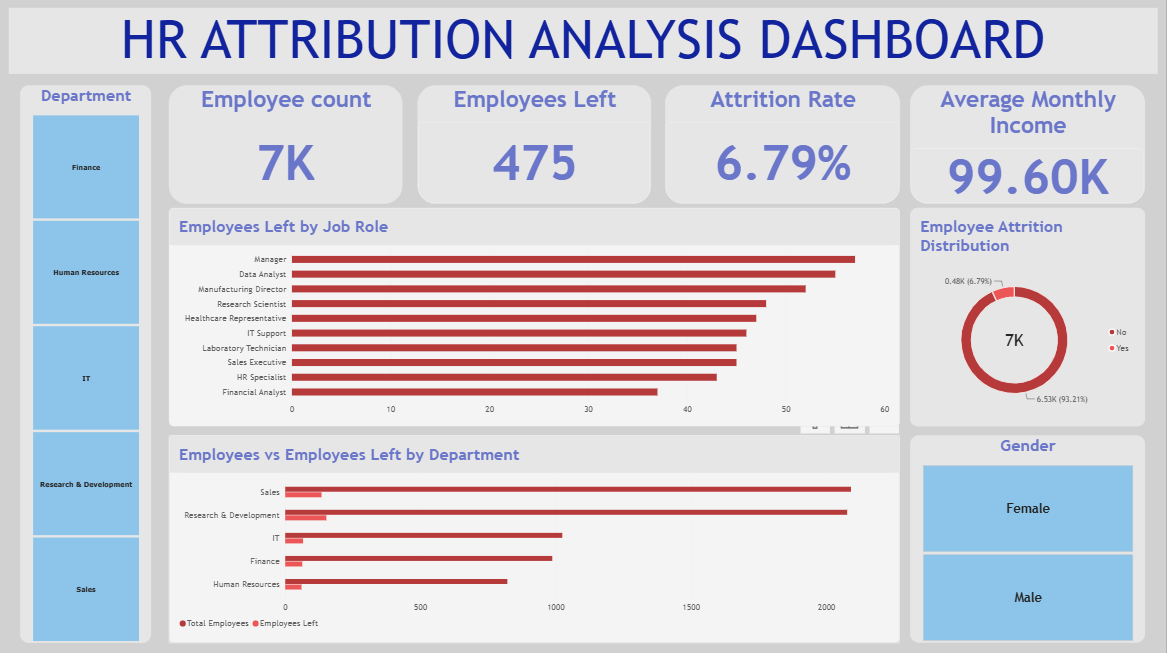

The dashboard page shown, as its layout file describes it:
{"tool":"powerbi","page":{"name":"HR Overview","canvas":[1920,1080],"ordinal":0},"visuals":[{"type":"textbox","box":[14.4,14.4,1891.6,109.1],"z":0},{"type":"cardVisual","title":"Employee count","fields":{"Data":["HR_Analytics_Cleaned.Total Employees"]},"box":[277.9,142,384.9,195.5],"z":1000},{"type":"cardVisual","title":"Employees Left","fields":{"Data":["HR_Analytics_Cleaned.Employees Left"]},"box":[687.5,142,384.9,195.5],"z":2000},{"type":"cardVisual","title":"Attrition Rate","fields":{"Data":["HR_Analytics_Cleaned.Attrition Rate"]},"box":[1095,142,387,195.5],"z":3000},{"type":"cardVisual","title":"Average Monthly Income","fields":{"Data":["HR_Analytics_Cleaned.Average Monthly Income"]},"box":[1498.5,142,387,195.5],"z":4000},{"type":"clusteredBarChart","title":"Employees vs Employees Left by Department","fields":{"Category":["HR_Analytics_Cleaned.Department"],"Y":["HR_Analytics_Cleaned.Total Employees","HR_Analytics_Cleaned.Employees Left"]},"box":[277.9,718.4,1204.1,341.7],"z":5000},{"type":"clusteredBarChart","title":"Employees Left by Job Role","fields":{"Category":["HR_Analytics_Cleaned.JobRole"],"Y":["HR_Analytics_Cleaned.Employees Left"]},"box":[277.9,343.7,1204.1,360.2],"z":6000},{"type":"donutChart","title":"Employee Attrition Distribution","fields":{"Category":["HR_Analytics_Cleaned.Attrition"],"Y":["CountNonNull(HR_Analytics_Cleaned.EmployeeID)"]},"box":[1498.5,343.7,387,360.2],"z":7000},{"type":"slicer","title":"Department","fields":{"Values":["HR_Analytics_Cleaned.Department"]},"box":[32.9,142,216.1,918],"z":8000},{"type":"slicer","title":"Gender","fields":{"Values":["HR_Analytics_Cleaned.Gender"]},"box":[1498.5,718.4,387,341.7],"z":9000}]}

Visuals, with their boxes in screenshot pixels (x1, y1, x2, y2), scaled from the page's 1920x1080 canvas onto the 1167x653 screenshot:
textbox: detection(9, 9, 1158, 75)
"Employee count" cardVisual: detection(169, 86, 403, 204)
"Employees Left" cardVisual: detection(418, 86, 652, 204)
"Attrition Rate" cardVisual: detection(666, 86, 901, 204)
"Average Monthly Income" cardVisual: detection(911, 86, 1146, 204)
"Employees vs Employees Left by Department" clusteredBarChart: detection(169, 434, 901, 641)
"Employees Left by Job Role" clusteredBarChart: detection(169, 208, 901, 426)
"Employee Attrition Distribution" donutChart: detection(911, 208, 1146, 426)
"Department" slicer: detection(20, 86, 151, 641)
"Gender" slicer: detection(911, 434, 1146, 641)
